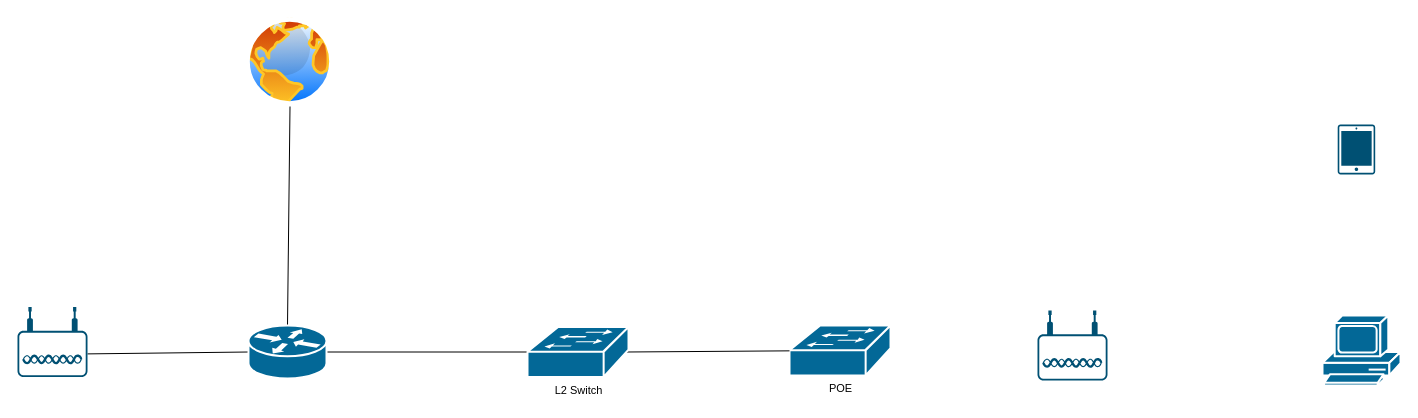
The diagram is 1418 pixels wide and 418 high, and some of its shapes have lost their labels. The shapes that lost their labels are listed below. From the top down, each one's centre as x and y in pixels, then its label:
(x=52, y=341): WLC
(x=1072, y=345): AP
